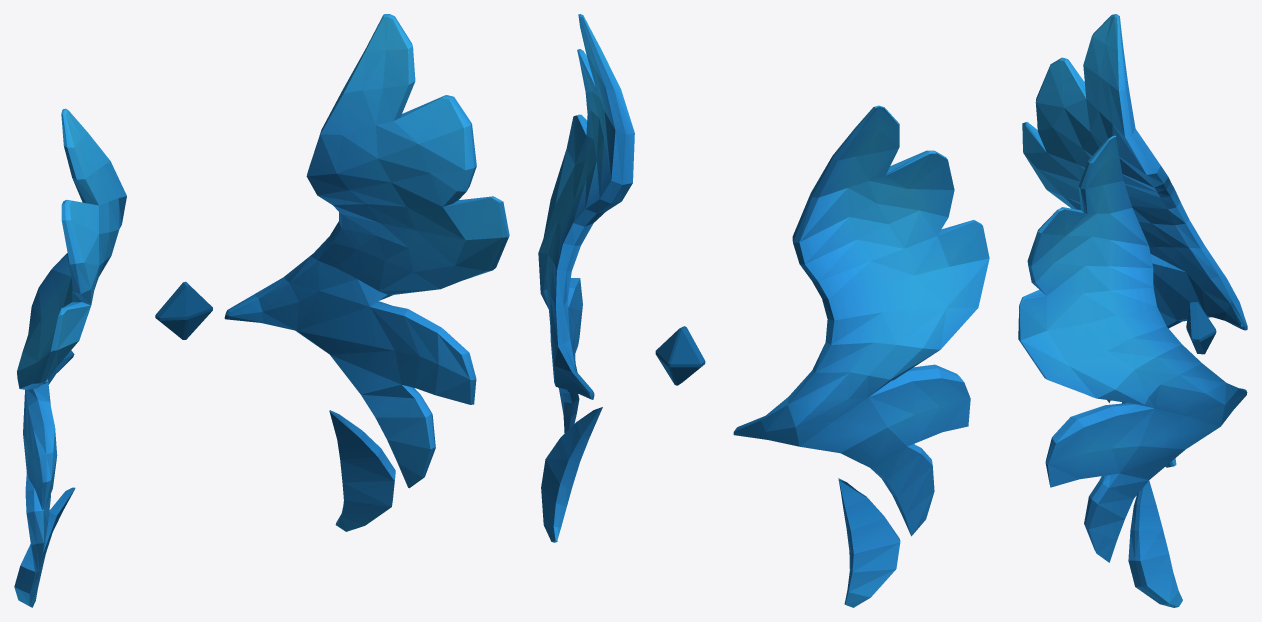
Rendered from CharSkyKid_Face_AP26BlueWings.glb.
The picture shows the model from 3 angles, left to right: view 1: azimuth 30°, elevation 25°; view 2: azimuth 150°, elevation 25°; view 3: azimuth 270°, elevation 25°; orthographic projection. The views are drawn at different scales.
Visible parts, largest first — view 1: CharSkyKid_Face_AP26BlueWings; view 2: CharSkyKid_Face_AP26BlueWings; view 3: CharSkyKid_Face_AP26BlueWings.
Boxes of the visible parts, x1=… form: CharSkyKid_Face_AP26BlueWings: x1=14, y1=14, x2=509, y2=607; CharSkyKid_Face_AP26BlueWings: x1=538, y1=14, x2=989, y2=607; CharSkyKid_Face_AP26BlueWings: x1=1018, y1=14, x2=1247, y2=607.
Size of the model in its own units: 3.54 by 3.96 by 1.74.
Materials: 1 (1 with a texture image).
